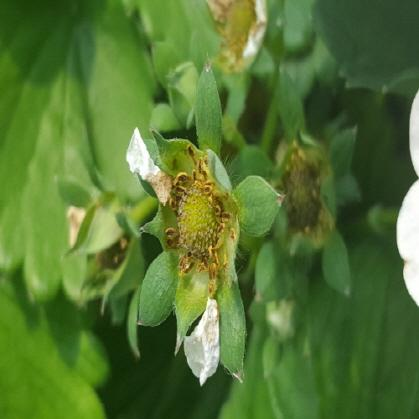Blossom Blight: (161, 142, 239, 300)
